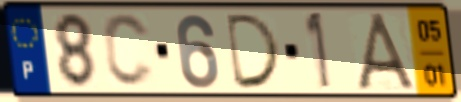1: (302, 9, 334, 94)
6: (173, 11, 221, 91)
8: (51, 10, 100, 91)
A: (354, 10, 422, 93)
C: (101, 11, 157, 90)
D: (224, 11, 286, 91)
